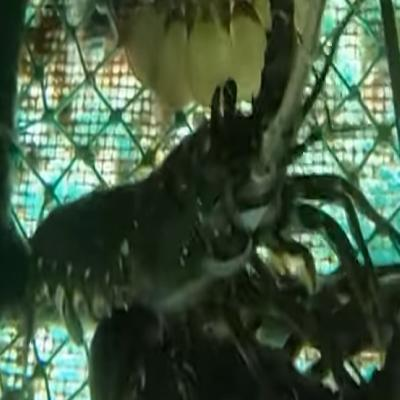lobster: (34, 89, 333, 314)
